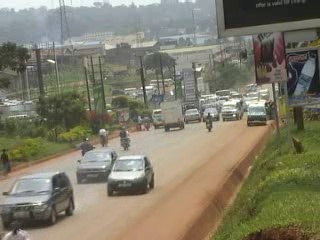Car: (0, 168, 77, 226), (106, 152, 156, 195), (75, 146, 117, 184), (183, 106, 202, 126), (201, 107, 220, 122)
Motorcycle: (3, 218, 30, 237), (78, 135, 97, 157), (117, 124, 131, 151), (99, 126, 110, 149), (140, 112, 152, 133), (204, 111, 215, 132)
